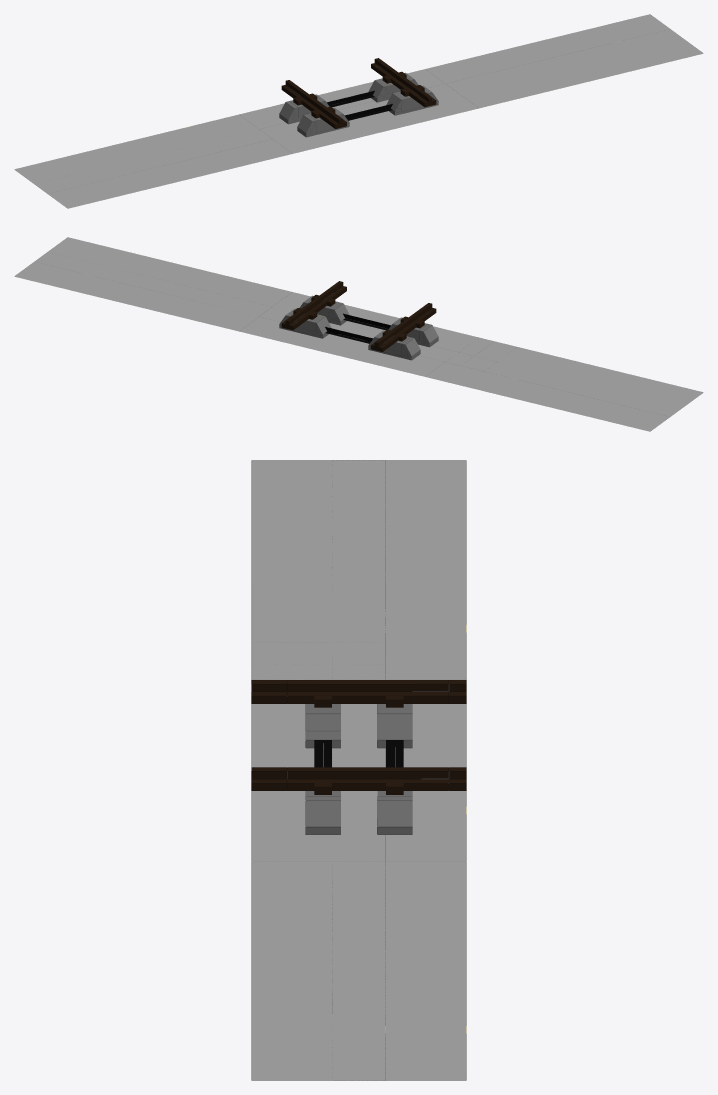
File: athen-metro-rail-3.obj
The picture shows the model from 3 angles, top to bottom: view 1: azimuth 30°, elevation 25°; view 2: azimuth 150°, elevation 25°; view 3: azimuth 270°, elevation 25°; orthographic projection. The views are drawn at different scales.
Visible parts, largest first — view 1: cube; view 2: cube; view 3: cube.
Part boxes in pixels (<box>): cube: <box>14,14,703,208</box>; cube: <box>14,237,703,431</box>; cube: <box>251,460,466,1080</box>.
Bounding box in the file's own units: 10.24 × 0.3452 × 1.5.
1 material, 1 textured.
